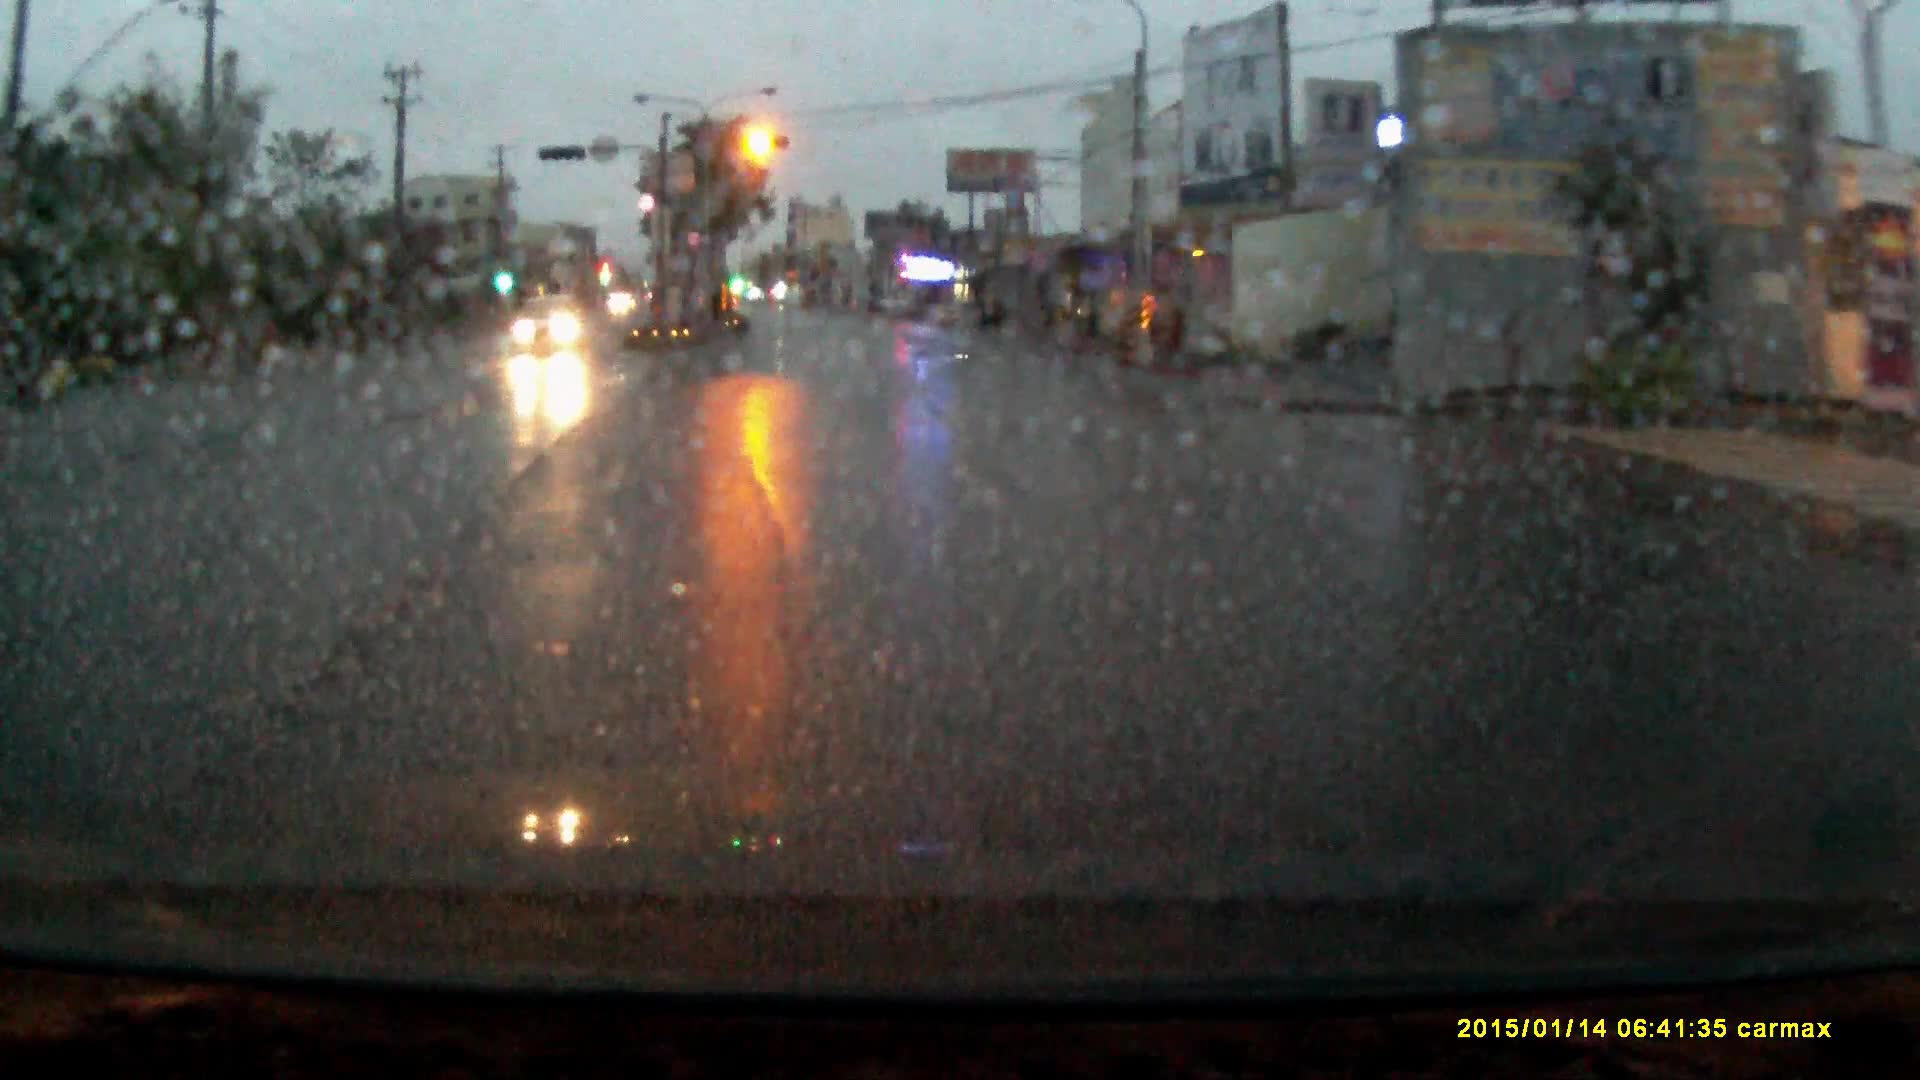vehicle: (510, 299, 591, 363)
